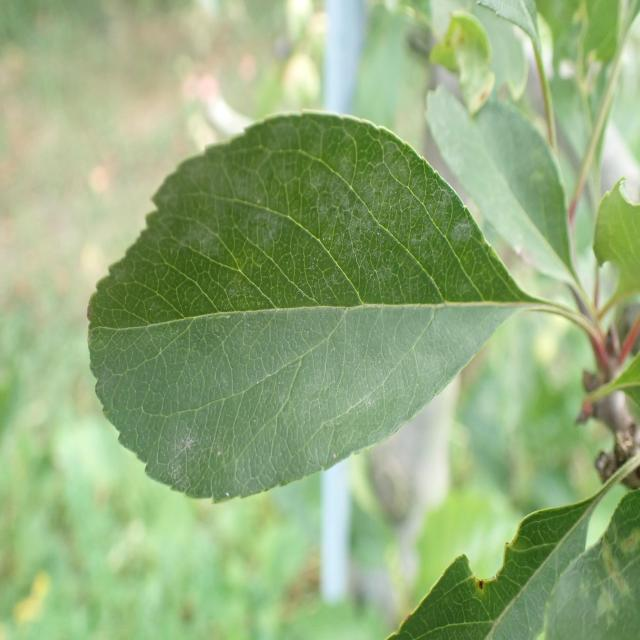Powdery_mildew: (78, 95, 528, 532)
